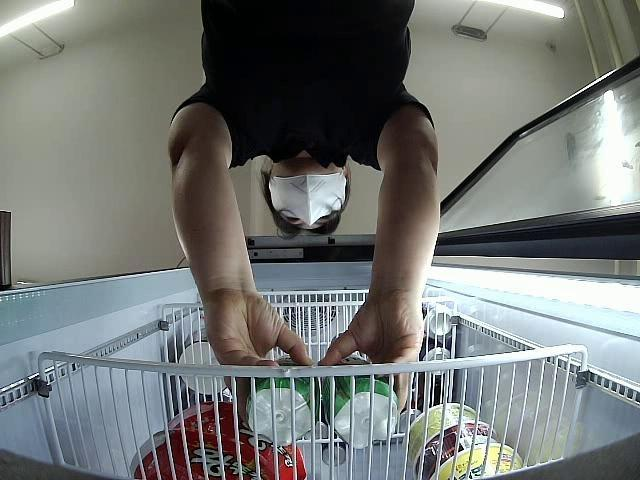18_trevi: (318, 354, 402, 452), (248, 358, 318, 448)
